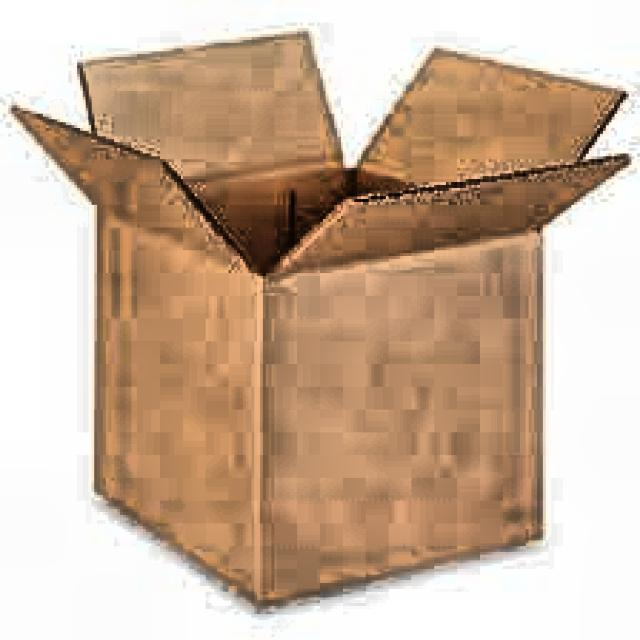cardboard: (19, 38, 632, 603)
